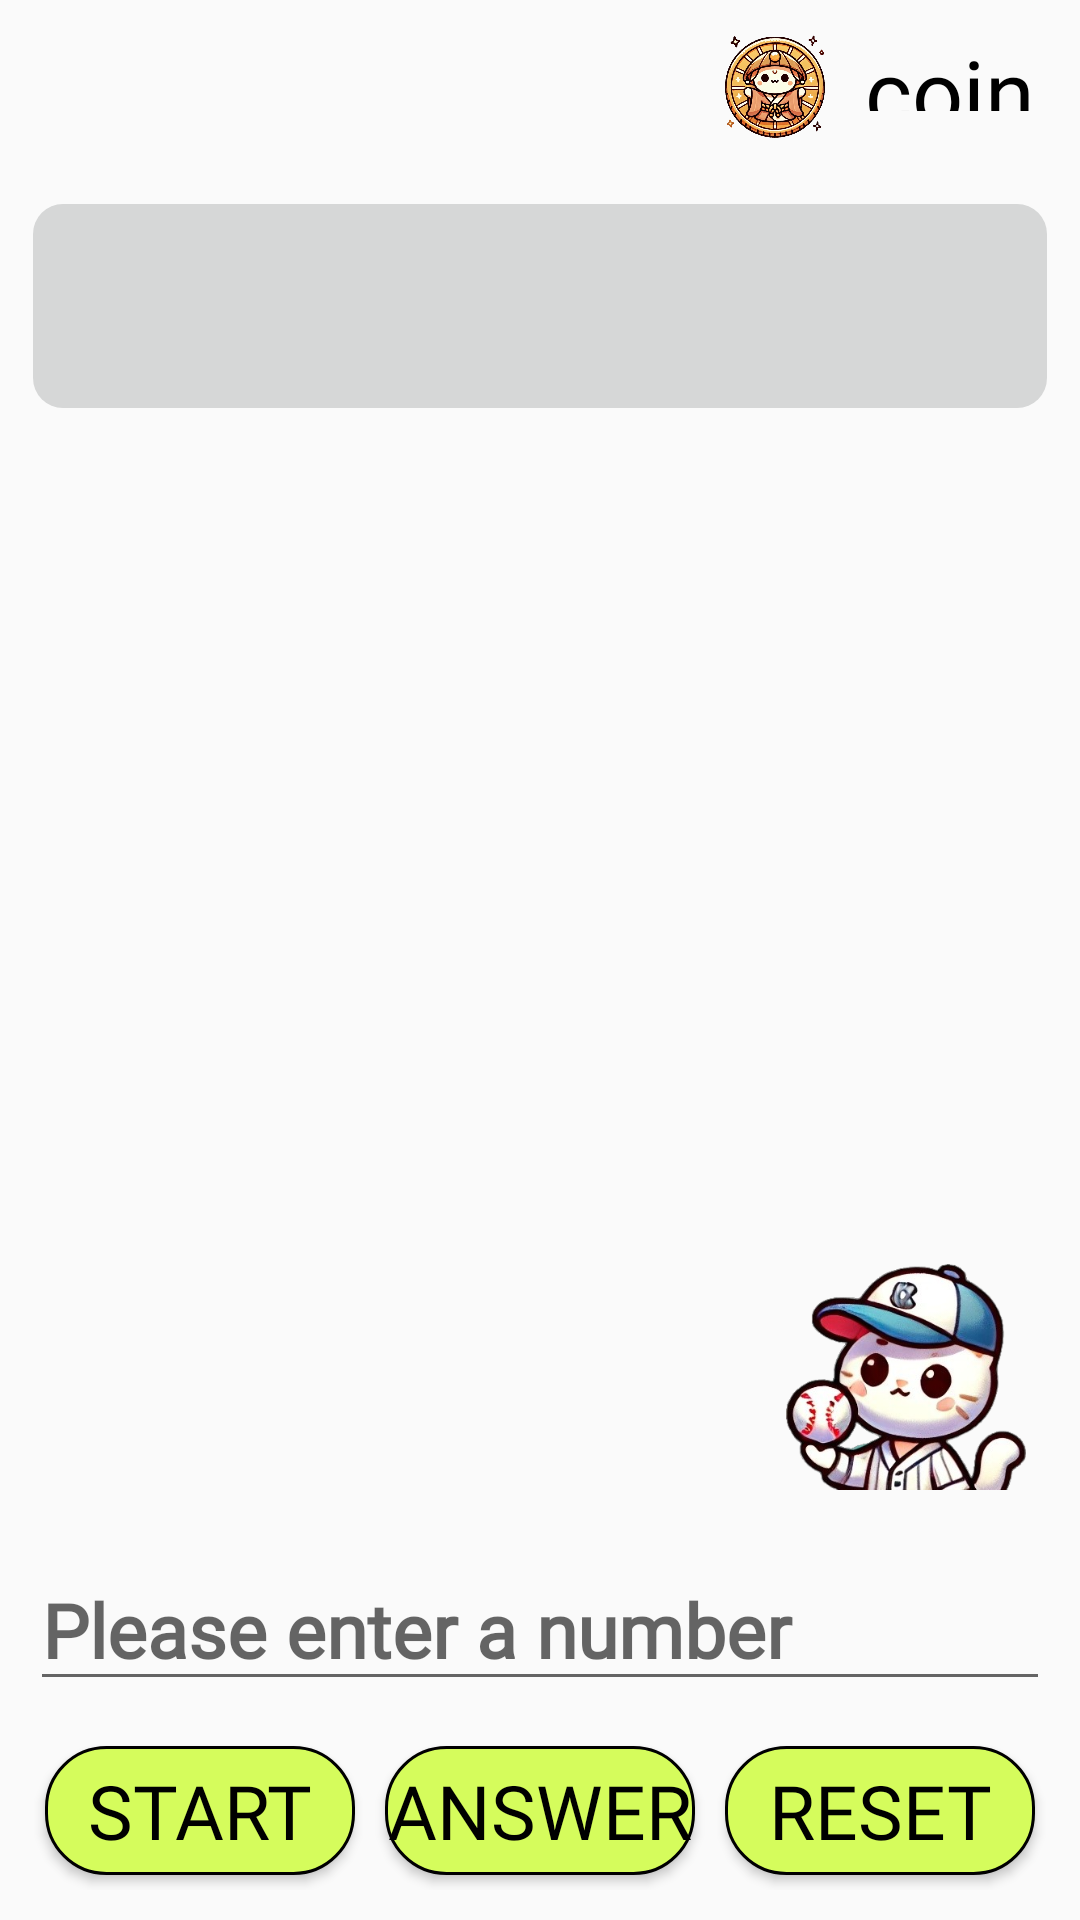

Named icons in this screenshot (1080x1920) and their centers, point (x, y):
baseball cats: point (906, 1377)
